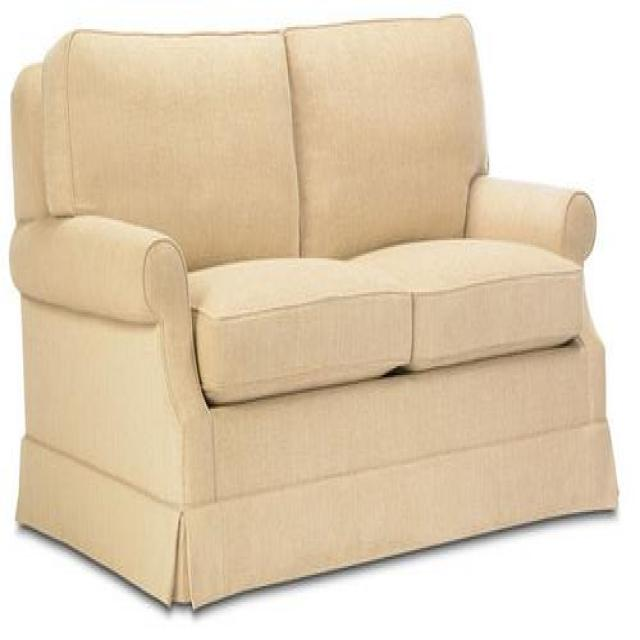sofa: (9, 12, 615, 617)
